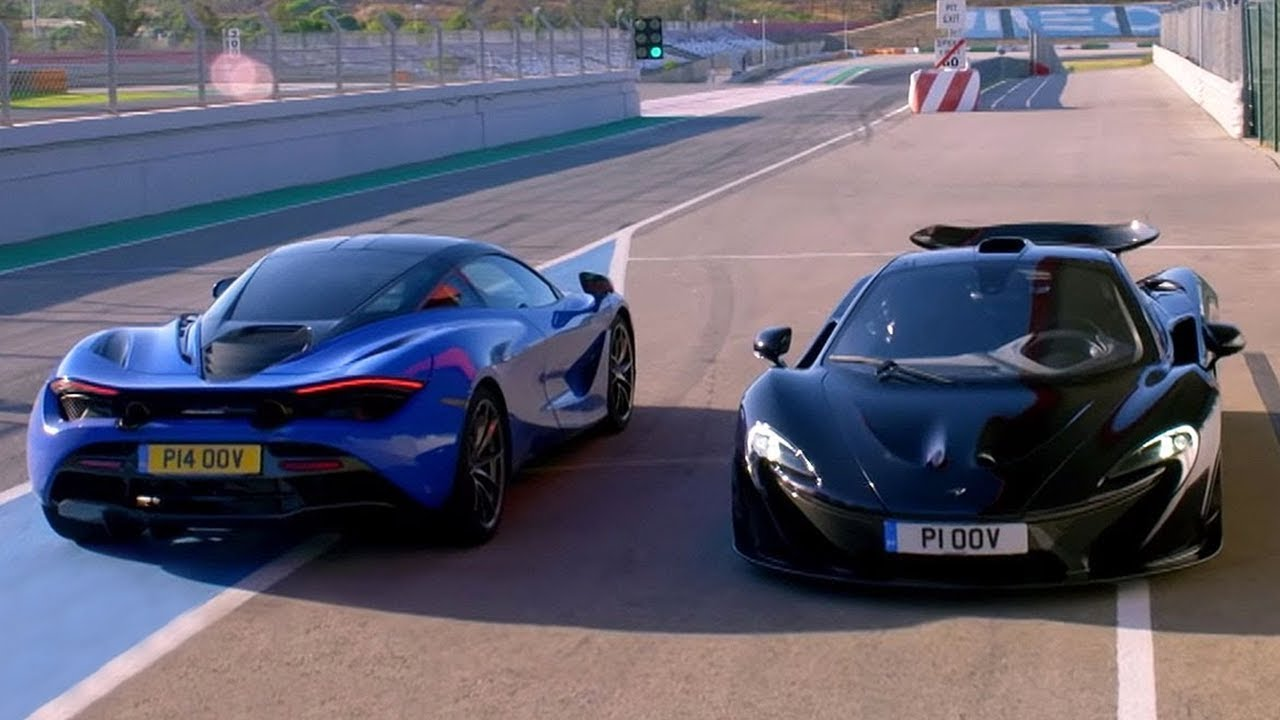tablica: (880, 521, 1029, 555), (135, 440, 260, 475)
